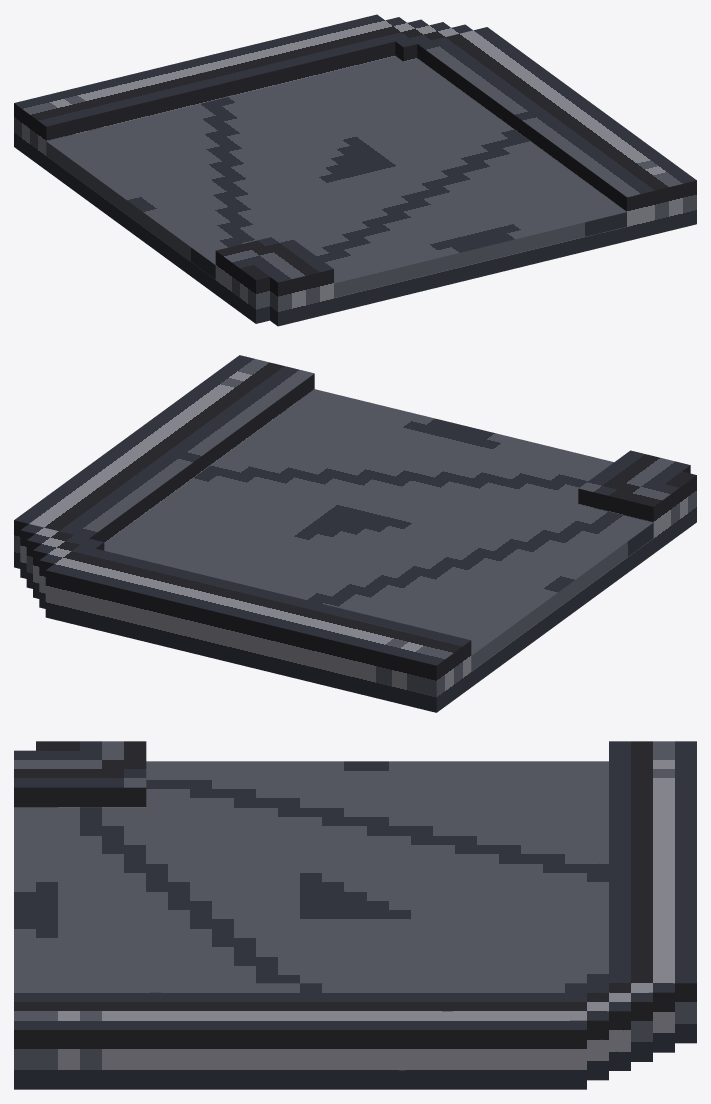
The model's file is conveyor_corner_stopped.glb.
The picture shows the model from 3 angles, top to bottom: view 1: azimuth 30°, elevation 25°; view 2: azimuth 150°, elevation 25°; view 3: azimuth 270°, elevation 25°; orthographic projection. The views are drawn at different scales.
Parts seen in each view (by area): view 1: Replaceable_Belt, Chassis_and_Guide_Rails; view 2: Replaceable_Belt, Chassis_and_Guide_Rails; view 3: Replaceable_Belt, Chassis_and_Guide_Rails.
Part boxes in pixels (bbox=[...]): Replaceable_Belt: bbox=[46, 56, 626, 297]; Chassis_and_Guide_Rails: bbox=[14, 14, 696, 326]; Replaceable_Belt: bbox=[104, 389, 653, 671]; Chassis_and_Guide_Rails: bbox=[14, 355, 696, 712]; Replaceable_Belt: bbox=[14, 761, 608, 983]; Chassis_and_Guide_Rails: bbox=[14, 741, 696, 1089].
Bounding box in the file's own units: 0.8719 × 0.0844 × 0.8719.
2 materials, 2 textured.
